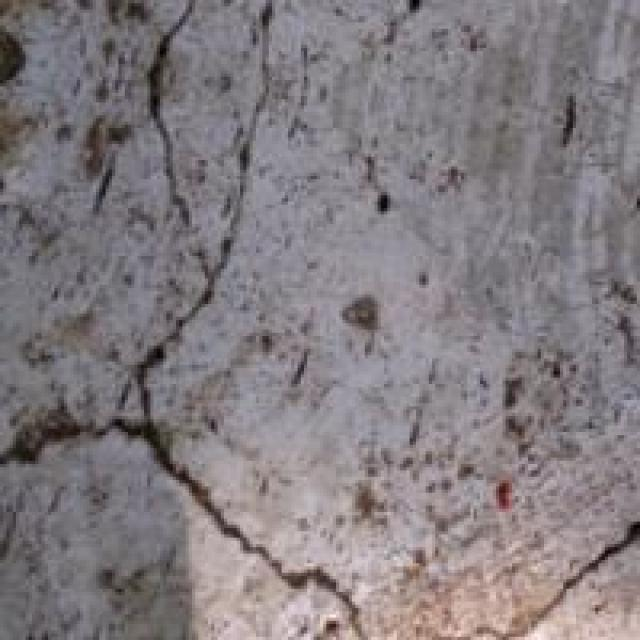crack: (26, 253, 515, 637)
